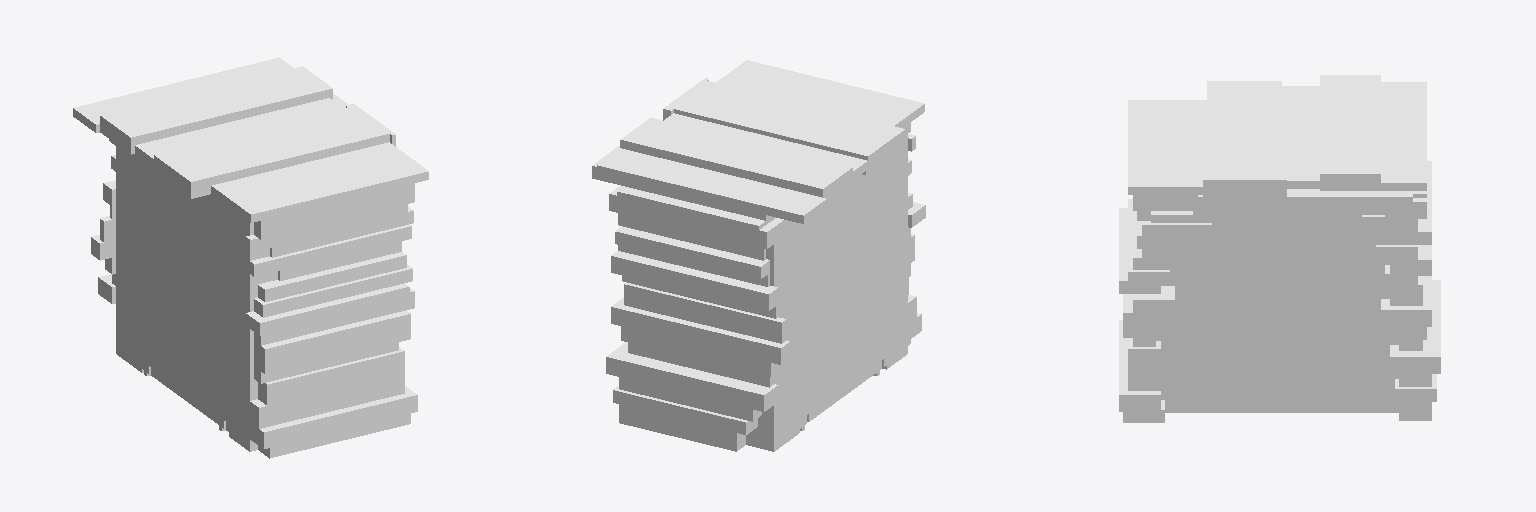
The model's file is TrainTrackEnterance.vox.obj.
3 views of the same model, side by side, from view 1: azimuth 30°, elevation 25°; view 2: azimuth 150°, elevation 25°; view 3: azimuth 270°, elevation 25° (orthographic).
Parts seen in each view (by area): view 1: object 1; view 2: object 1; view 3: object 1.
Boxes of the visible parts, x1=… form: object 1: x1=73, y1=57, x2=428, y2=458; object 1: x1=592, y1=60, x2=925, y2=451; object 1: x1=1119, y1=75, x2=1440, y2=422.
Bounding box in the file's own units: 5.4 × 6.1 × 6.9.